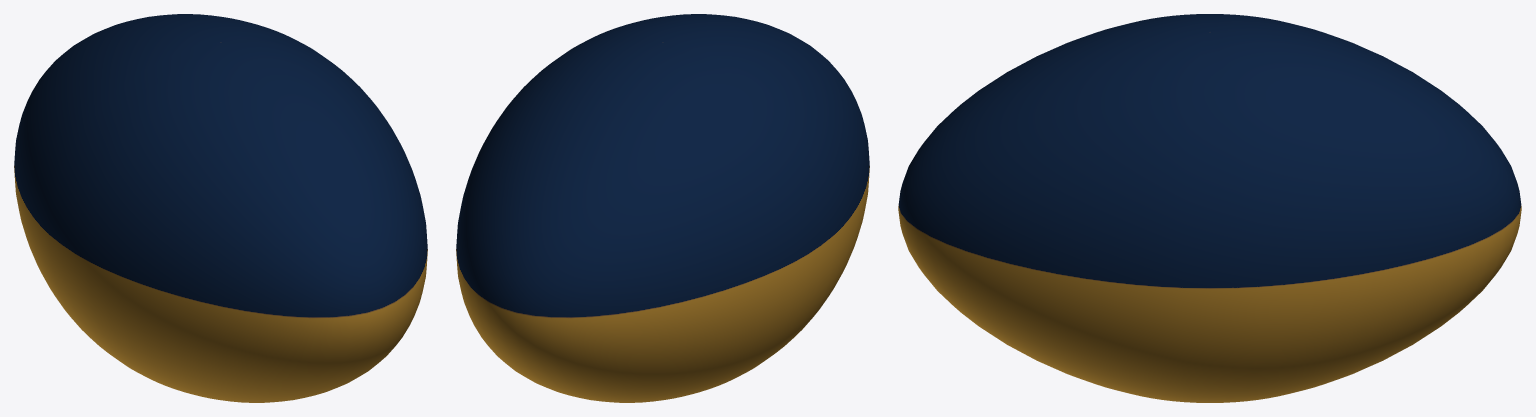
The model's file is football.fbx.
3 renders of one model, left to right at view 1: azimuth 30°, elevation 25°; view 2: azimuth 150°, elevation 25°; view 3: azimuth 270°, elevation 25°, orthographic. The views are drawn at different scales.
Visible parts, largest first — view 1: Sphere; view 2: Sphere; view 3: Sphere.
Part boxes in pixels (<box>): Sphere: <box>14,14,427,402</box>; Sphere: <box>456,14,869,402</box>; Sphere: <box>898,14,1521,402</box>.
Bounding box in the file's own units: 200 × 200 × 320.
Materials: 1 (1 with a texture image).
